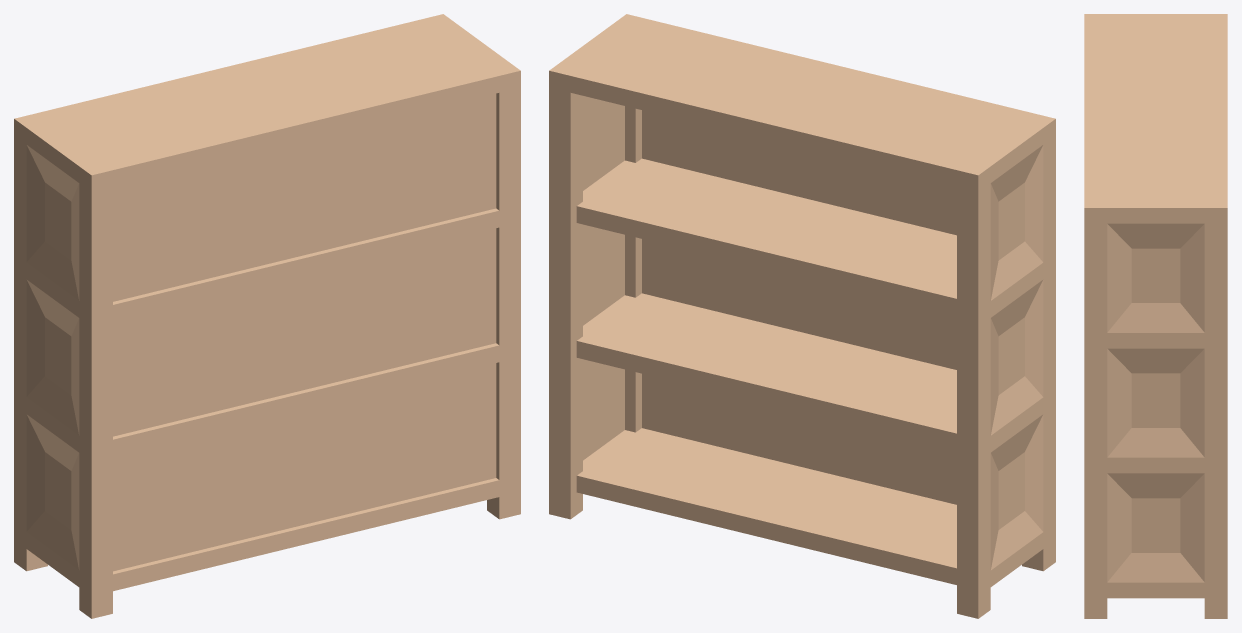
Rendered from bookcaseClosedWide.gltf.
3 renders of one model, left to right at view 1: azimuth 30°, elevation 25°; view 2: azimuth 150°, elevation 25°; view 3: azimuth 270°, elevation 25°, orthographic. The views are drawn at different scales.
Parts seen in each view (by area): view 1: bookcaseClosedWide; view 2: bookcaseClosedWide; view 3: bookcaseClosedWide.
Boxes of the visible parts, <box> form: bookcaseClosedWide: <box>14,14,520,618</box>; bookcaseClosedWide: <box>549,14,1055,618</box>; bookcaseClosedWide: <box>1084,14,1227,618</box>.
Bounding box in the file's own units: 8 × 7.9 × 2.5.
